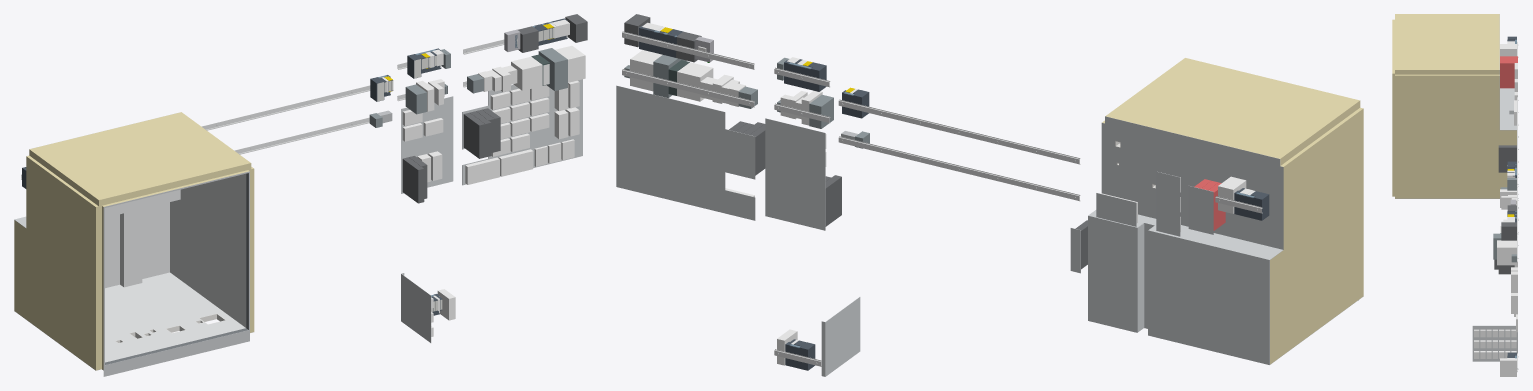
File: pano31.glb
3 views of the same model, side by side, from view 1: azimuth 30°, elevation 25°; view 2: azimuth 150°, elevation 25°; view 3: azimuth 270°, elevation 25° (orthographic). The views are drawn at different scales.
Visible parts, largest first — view 1: YM31_yalitim, YM31_icsac, YM31_pano, CIHAZ_E_LSP36 (×2), SIEMENS_CAD_COLOR_0 (×2), SURUCU_AX_E_ASANSOR, SURUCU_AX_K_BICAK, 23550e07-ccc5-11f1-81ad-acf23cc667de, CIHAZ_E_XB216; view 2: YM31_icsac, YM31_pano, YM31_yalitim, SIEMENS_CAD_COLOR_0 (×2), 23550e07-ccc5-11f1-81ad-acf23cc667de, SURUCU_AX_K_BICAK; view 3: YM31_yalitim, YM31_pano, YM31_icsac, 23550e07-ccc5-11f1-81ad-acf23cc667de, SURUCU_AX_F_YBANT, KIRMIZI_TOP_S1_AX_TOP_TABLA, CIHAZ_B_PSU62, CIHAZ_E_XB216, CIHAZ_E_FLT (×2), CIHAZ_TOP_PSU20, SIEMENS_CAD_COLOR_0, CIHAZ_K_RLY (+2 smaller).
Part boxes in pixels (x1,y1,x2,y2): YM31_yalitim: (14,112,254,370); YM31_icsac: (14,113,252,376); YM31_pano: (21,39,582,342); CIHAZ_E_LSP36 (×2): (465,149,533,184); SIEMENS_CAD_COLOR_0 (×2): (405,48,567,114); SURUCU_AX_E_ASANSOR: (463,112,485,158); SURUCU_AX_K_BICAK: (402,157,424,203); 23550e07-ccc5-11f1-81ad-acf23cc667de: (555,45,585,82); CIHAZ_E_XB216: (565,14,587,42); YM31_icsac: (1088,116,1363,364); YM31_pano: (616,31,1262,376); YM31_yalitim: (1102,58,1363,364); SIEMENS_CAD_COLOR_0 (×2): (653,55,833,128); 23550e07-ccc5-11f1-81ad-acf23cc667de: (630,50,662,91); SURUCU_AX_K_BICAK: (825,175,841,226); YM31_yalitim: (1392,14,1516,198); YM31_pano: (1472,41,1518,371); YM31_icsac: (1395,14,1516,198); 23550e07-ccc5-11f1-81ad-acf23cc667de: (1497,240,1516,265); SURUCU_AX_F_YBANT: (1498,145,1516,172); KIRMIZI_TOP_S1_AX_TOP_TABLA: (1500,61,1517,88); CIHAZ_B_PSU62: (1500,358,1516,376); CIHAZ_E_XB216: (1501,222,1516,240); CIHAZ_E_FLT (×2): (1511,271,1517,313); CIHAZ_TOP_PSU20: (1500,44,1516,56); SIEMENS_CAD_COLOR_0: (1493,233,1501,259); CIHAZ_K_RLY: (1501,196,1516,209).
Size of the model in its own units: 3.81 by 1.76 by 0.9753.
